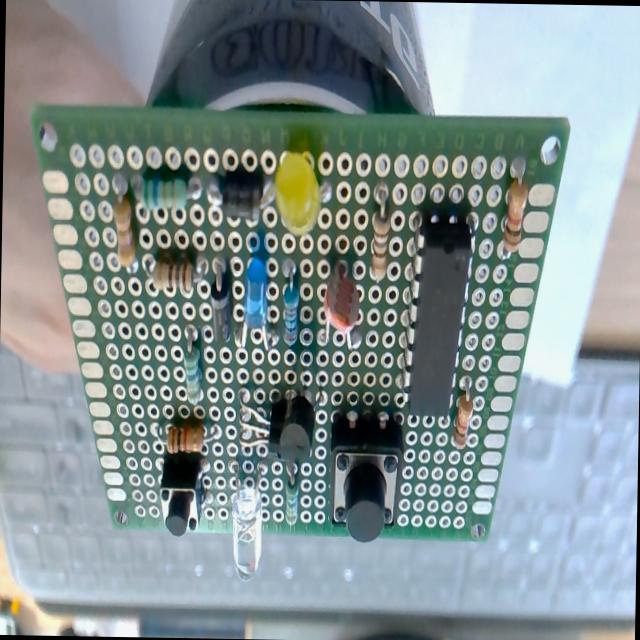IC: (405, 210, 473, 414)
cds: (323, 262, 363, 348)
diode: (204, 168, 270, 220), (208, 268, 232, 344)
led: (262, 149, 330, 237), (226, 464, 267, 583), (235, 252, 278, 354)
resistor: (369, 186, 392, 278), (152, 252, 196, 296), (502, 178, 527, 253), (281, 262, 302, 348), (141, 176, 188, 212), (112, 196, 136, 266), (182, 346, 204, 406), (166, 422, 204, 454), (453, 392, 473, 449), (284, 464, 300, 532)
switch: (327, 408, 404, 540), (159, 453, 207, 537)
transistor: (235, 394, 292, 456), (268, 393, 315, 465)
